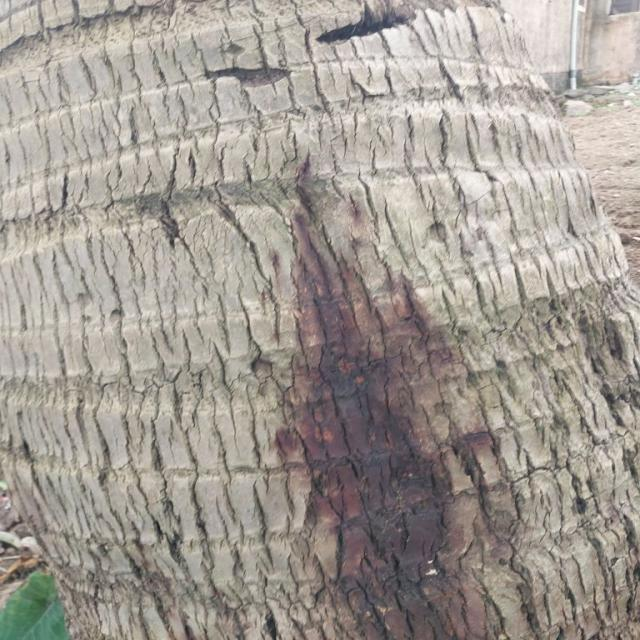stembleeding: (152, 157, 580, 605)
